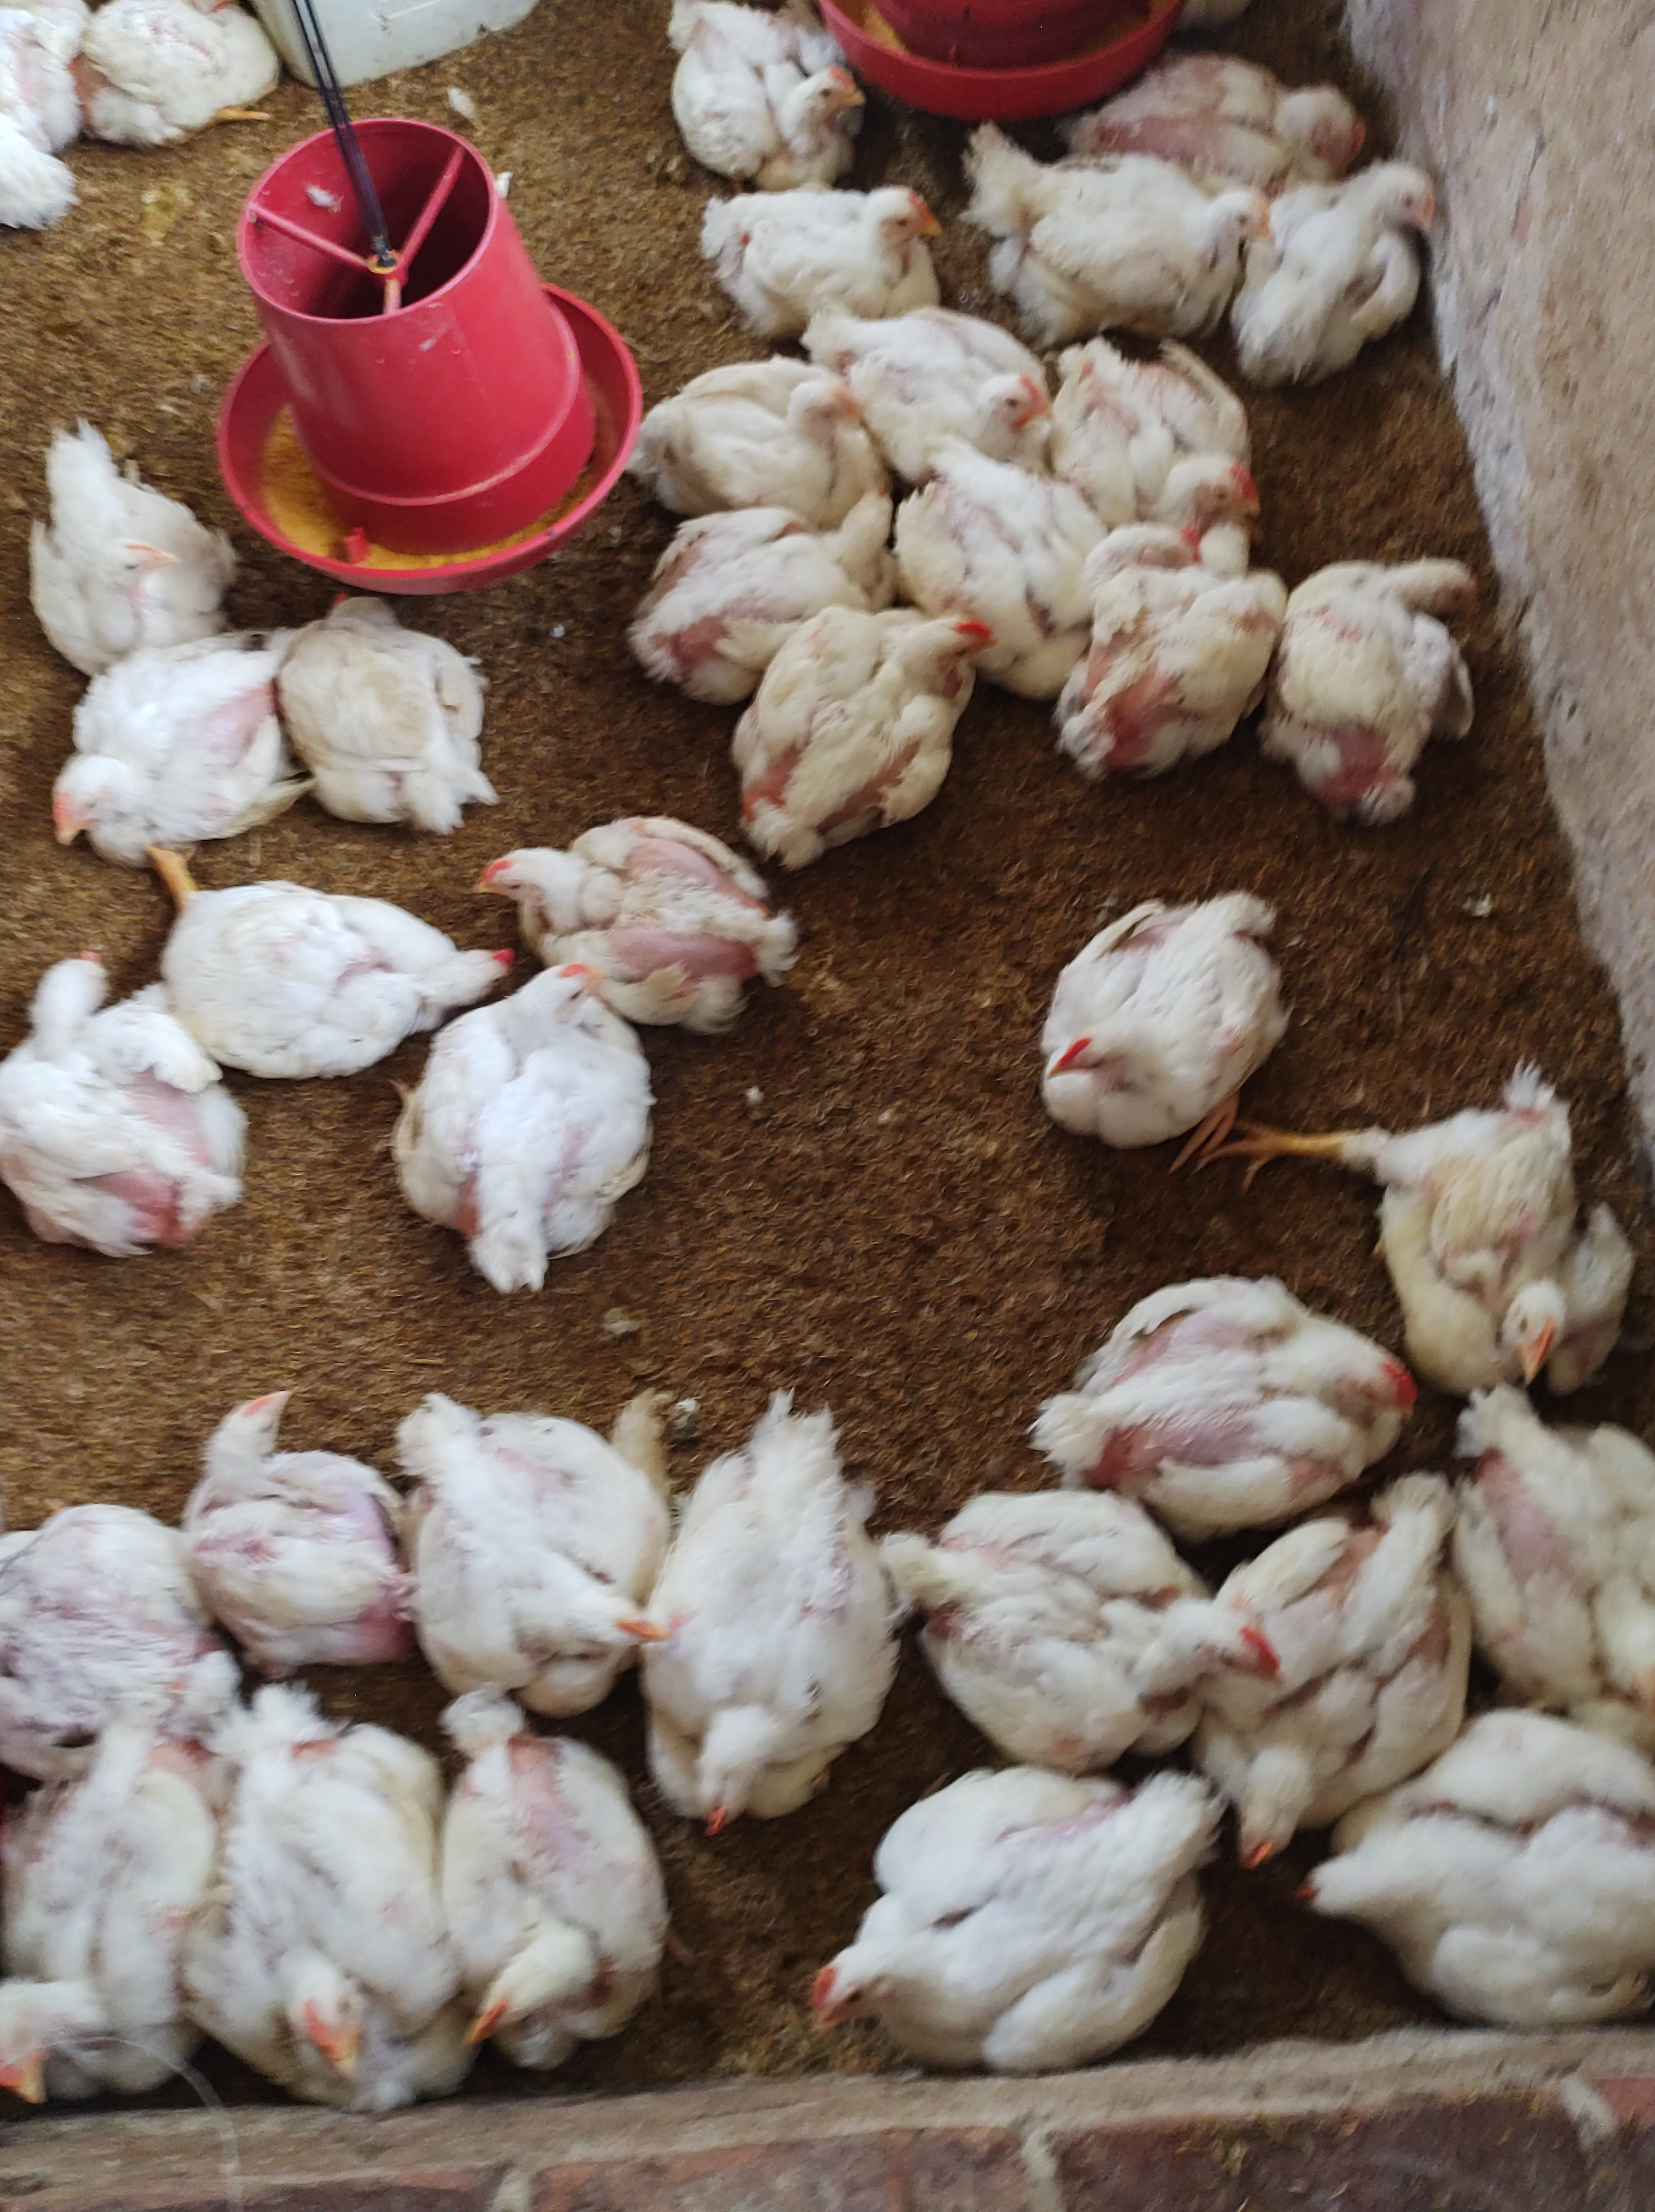Pollos: (789, 1789, 1269, 2076), (1302, 1716, 1643, 2052), (932, 1499, 1286, 1781), (673, 1409, 892, 1845), (219, 1701, 445, 2120), (1220, 1499, 1472, 1859), (0, 1765, 243, 2134), (1366, 1073, 1655, 1374), (1031, 857, 1302, 1169), (1017, 1271, 1405, 1475), (396, 1398, 678, 1678), (422, 963, 655, 1282), (450, 1727, 654, 2083), (0, 949, 243, 1245), (160, 880, 513, 1069), (482, 812, 791, 1010), (760, 602, 993, 864), (1053, 522, 1286, 781), (292, 576, 518, 836), (47, 628, 285, 864), (184, 1389, 409, 1631), (636, 490, 904, 675), (1005, 144, 1269, 330), (0, 1515, 219, 1739), (21, 403, 235, 631), (1243, 162, 1432, 377), (1293, 520, 1420, 833), (845, 271, 1053, 461), (1062, 337, 1260, 534), (641, 350, 864, 508), (721, 176, 947, 330), (671, 2, 861, 172), (1139, 59, 1382, 181), (78, 0, 297, 134), (1121, 503, 1201, 583)
